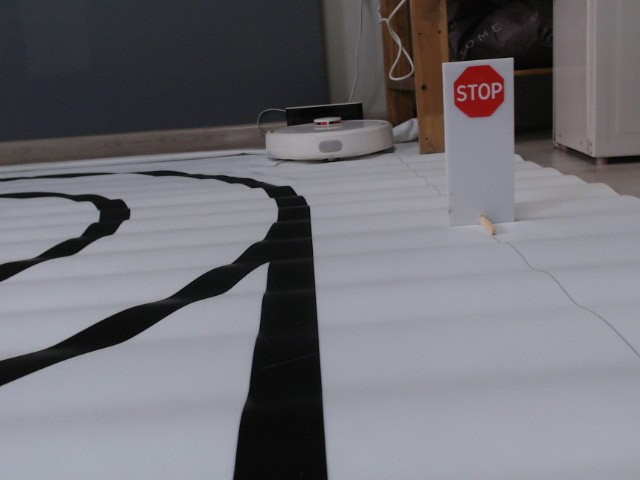Stop: (454, 63, 505, 118)
